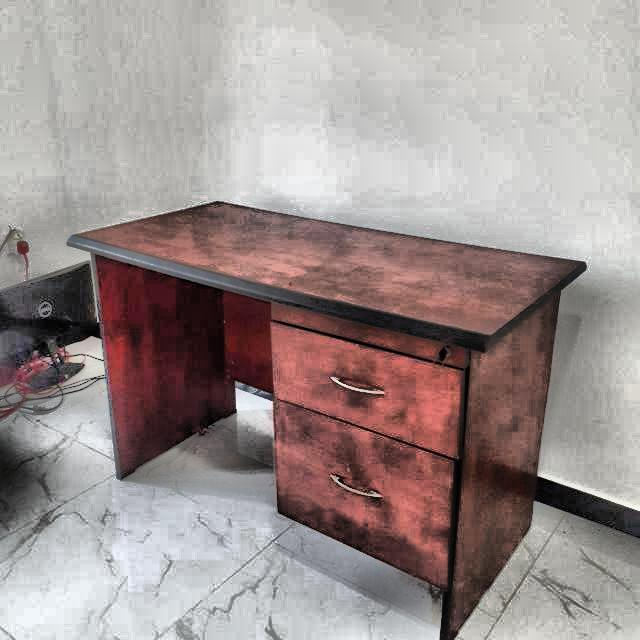mesa: (57, 186, 602, 640)
